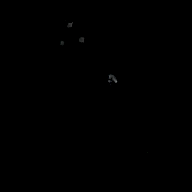v: (58, 20, 84, 45)
